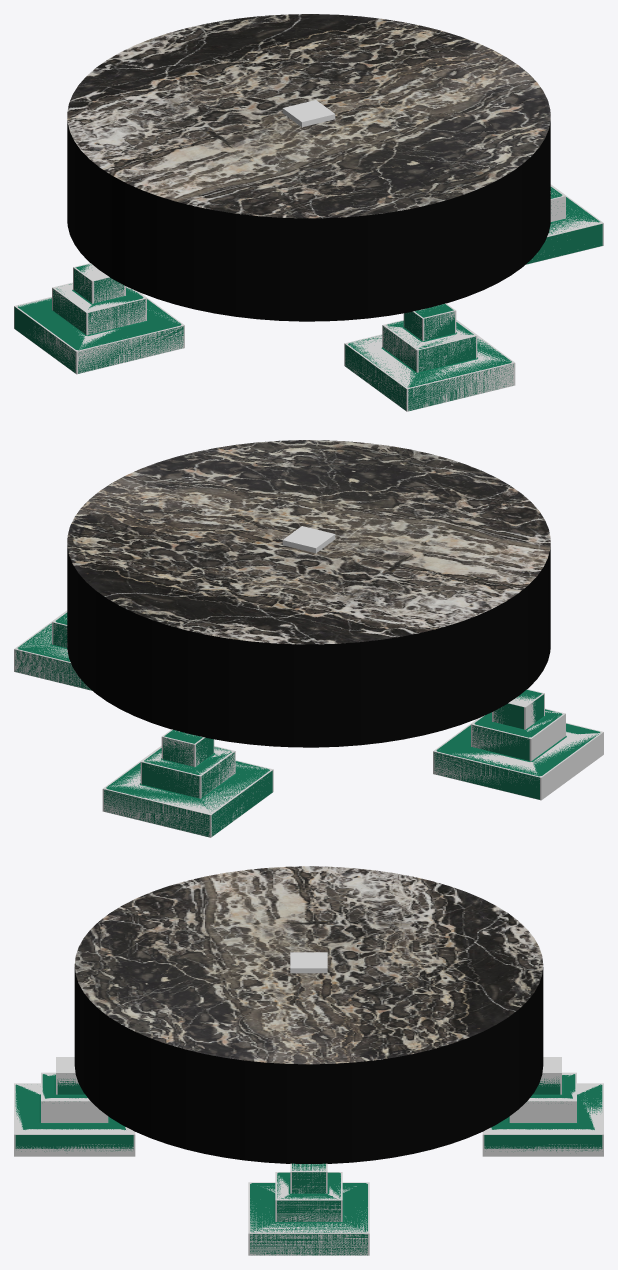
The model's file is ParkLane_Coffee_Liam.glb.
3 views of the same model, one above another, from view 1: azimuth 30°, elevation 25°; view 2: azimuth 150°, elevation 25°; view 3: azimuth 270°, elevation 25° (orthographic). The views are drawn at different scales.
Visible parts, largest first — view 1: Cylinder.001, Cube.007, Cube.008, Cube.009, Cube.006, Cube.003, Cube.002, Cube; view 2: Cylinder.001, Cube.004, Cube.007, Cube.006, Cube.005, Cube.003, Cube.002, Cube.001, Cube; view 3: Cylinder.001, Cube.003, Cube.002, Cube.005, Cube.009, Cube.008, Cube.004, Cube.
Boxes of the visible parts, bbox=[...] form: Cylinder.001: bbox=[67, 14, 550, 321]; Cube.007: bbox=[14, 264, 183, 373]; Cube.008: bbox=[345, 303, 513, 410]; Cube.009: bbox=[344, 303, 515, 411]; Cube.006: bbox=[14, 263, 184, 374]; Cube.003: bbox=[526, 187, 602, 264]; Cube.002: bbox=[525, 184, 603, 264]; Cube: bbox=[283, 101, 332, 126]; Cylinder.001: bbox=[67, 440, 550, 747]; Cube.004: bbox=[104, 729, 272, 836]; Cube.007: bbox=[434, 689, 600, 799]; Cube.006: bbox=[433, 689, 603, 800]; Cube.005: bbox=[102, 729, 273, 837]; Cube.003: bbox=[15, 612, 91, 690]; Cube.002: bbox=[14, 610, 92, 690]; Cube.001: bbox=[282, 526, 335, 553]; Cube: bbox=[284, 527, 334, 552]; Cylinder.001: bbox=[74, 866, 543, 1163]; Cube.003: bbox=[250, 1163, 367, 1255]; Cube.002: bbox=[248, 1163, 369, 1255]; Cube.005: bbox=[482, 1057, 603, 1156]; Cube.009: bbox=[14, 1057, 135, 1156]; Cube.008: bbox=[15, 1074, 133, 1151]; Cube.004: bbox=[484, 1074, 602, 1151]; Cube: bbox=[292, 953, 325, 973].
Size of the model in its own units: 10.7 by 3.42 by 10.7.
Materials: 2 (1 with a texture image).
